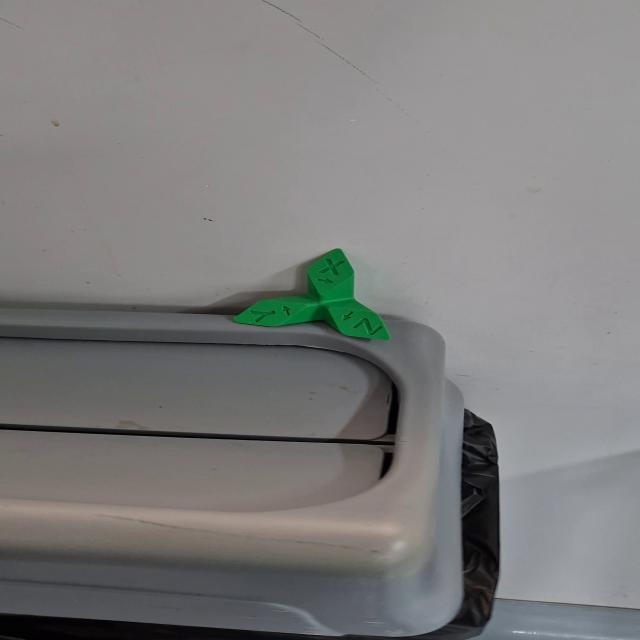objects: (229, 246, 394, 342)
